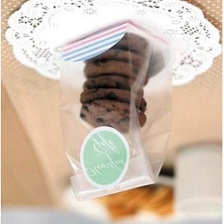snack: (44, 15, 178, 207)
